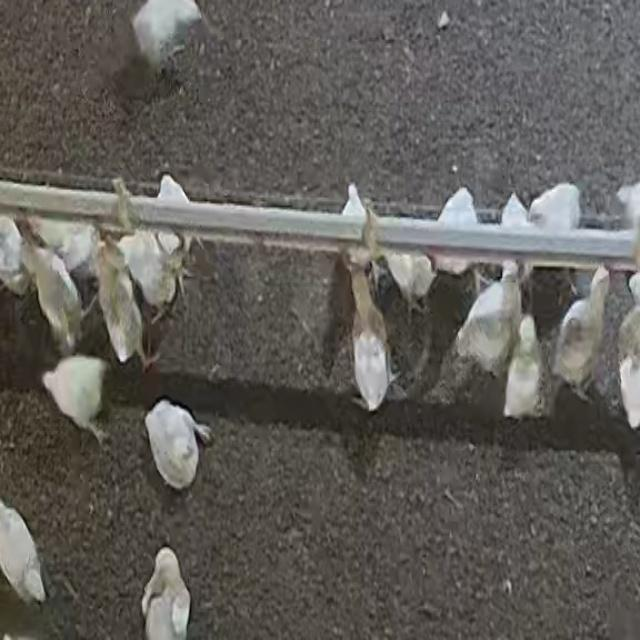chicken: (550, 268, 612, 400), (22, 236, 86, 361), (452, 266, 518, 380), (345, 272, 396, 409), (522, 183, 582, 297), (42, 354, 112, 445), (144, 398, 212, 490), (0, 493, 46, 609), (434, 186, 485, 284), (49, 218, 103, 306), (130, 1, 204, 64), (140, 548, 190, 640), (95, 254, 136, 366), (502, 316, 546, 420), (498, 190, 536, 293), (125, 225, 173, 306), (381, 250, 435, 318), (158, 174, 191, 282), (339, 184, 370, 268)
